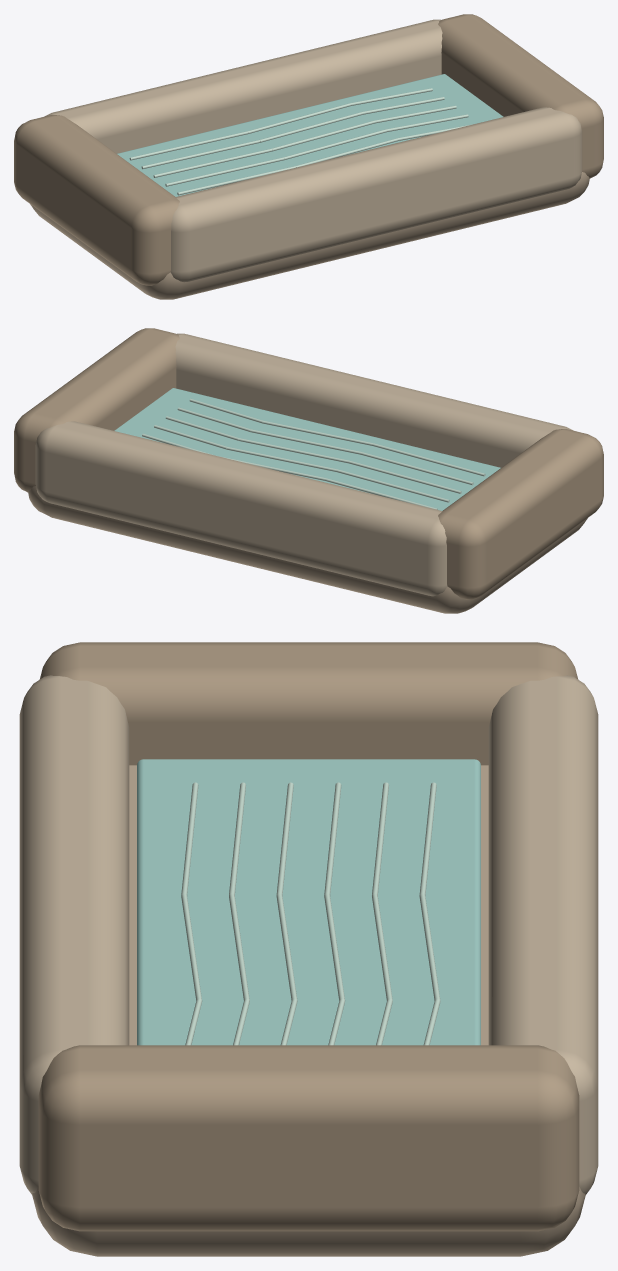
File: scetis-jgheab.glb
The picture shows the model from 3 angles, top to bottom: view 1: azimuth 30°, elevation 25°; view 2: azimuth 150°, elevation 25°; view 3: azimuth 270°, elevation 25°; orthographic projection. The views are drawn at different scales.
Parts seen in each view (by area): view 1: scetis-jgheab; view 2: scetis-jgheab; view 3: scetis-jgheab.
Part boxes in pixels (x1,y1,x2,y2): scetis-jgheab: [14, 14, 603, 299]; scetis-jgheab: [14, 328, 603, 613]; scetis-jgheab: [19, 642, 598, 1256].
Size of the model in its own units: 2.87 by 0.585 by 1.53.
